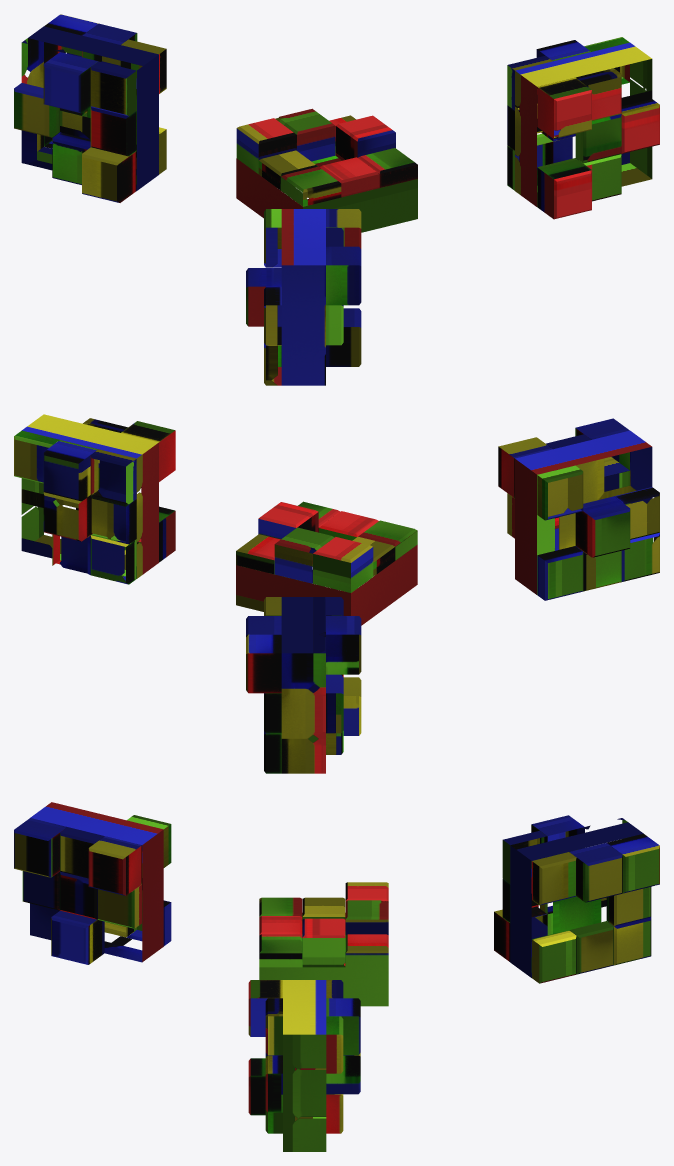
File: stage_1_lightmap.obj
3 views of the same model, one above another, from view 1: azimuth 30°, elevation 25°; view 2: azimuth 150°, elevation 25°; view 3: azimuth 270°, elevation 25° (orthographic). The views are drawn at different scales.
Parts seen in each view (by area): view 1: stage_1_stage_1_stage_1; view 2: stage_1_stage_1_stage_1; view 3: stage_1_stage_1_stage_1.
Boxes of the visible parts, x1=… form: stage_1_stage_1_stage_1: x1=14, y1=14, x2=659, y2=385; stage_1_stage_1_stage_1: x1=14, y1=414, x2=659, y2=773; stage_1_stage_1_stage_1: x1=14, y1=802, x2=659, y2=1151.
Bounding box in the file's own units: 65.37 × 15 × 74.87.
